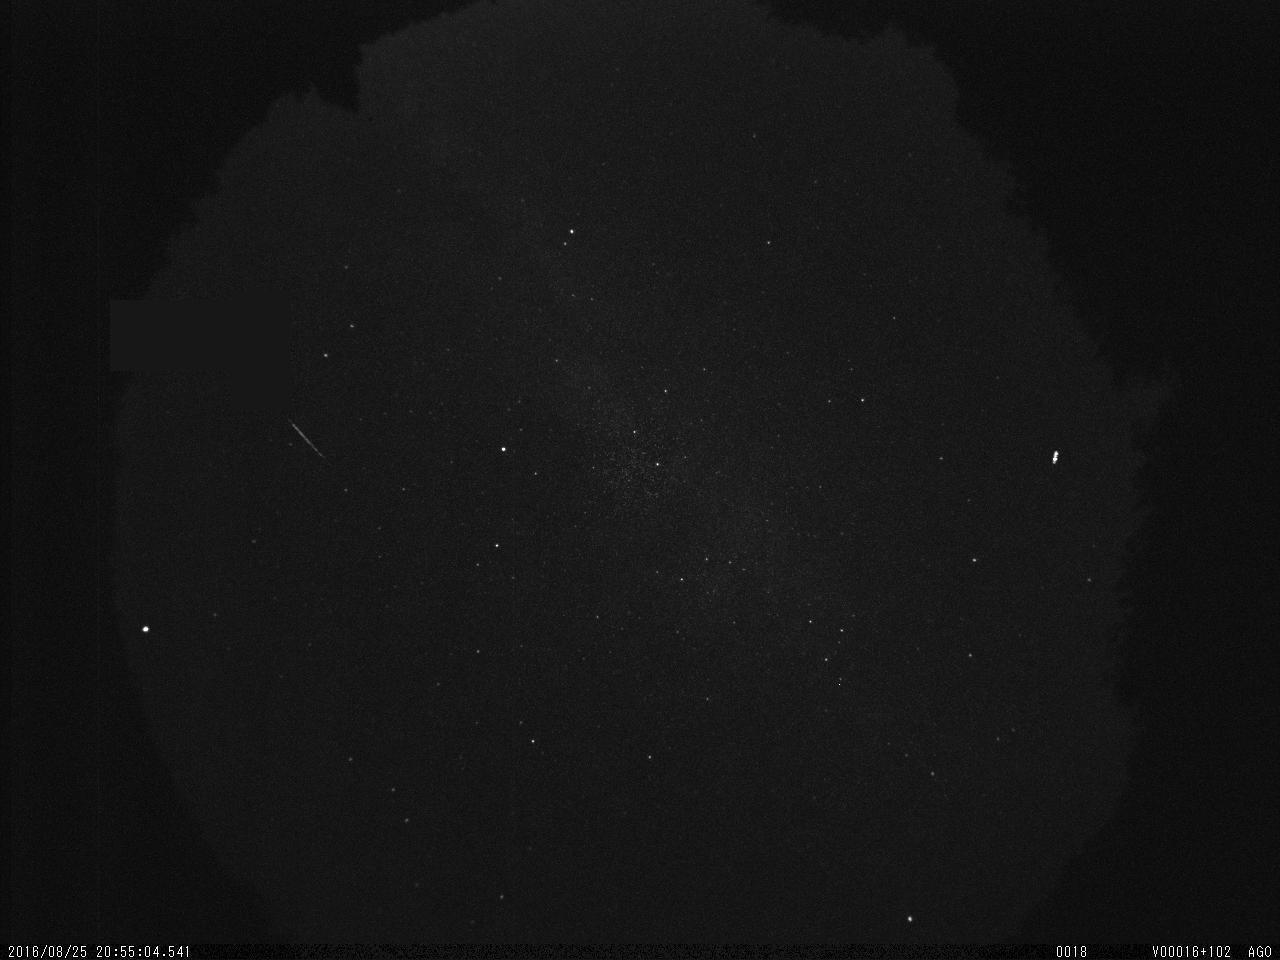Meteor: (284, 414, 328, 461)
